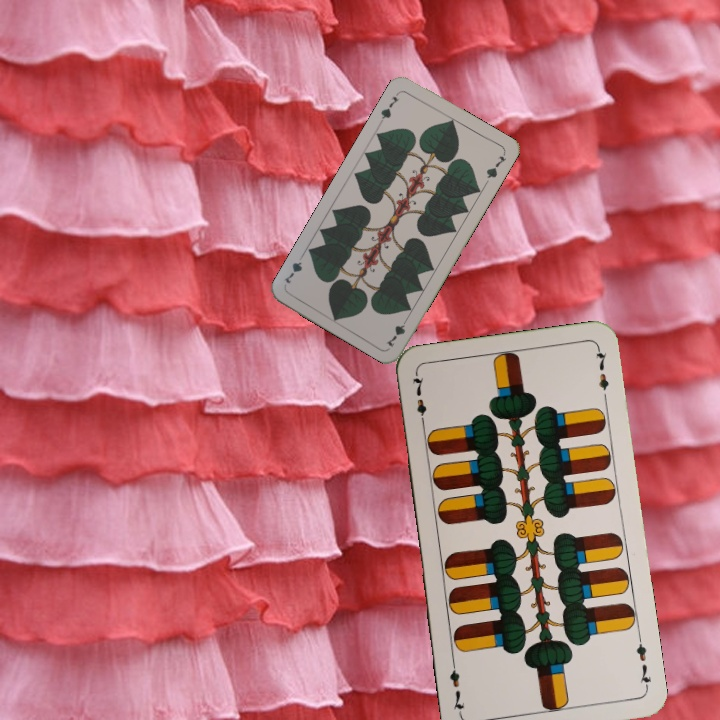E7: (408, 370, 430, 429), (632, 632, 654, 691)
G7: (382, 313, 412, 350), (376, 88, 402, 125)
